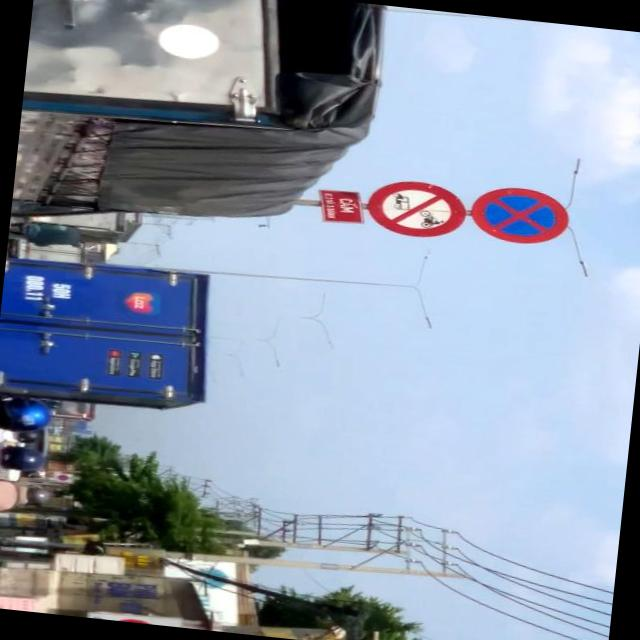P-104: (360, 178, 470, 241)
P-130: (466, 182, 572, 245)
